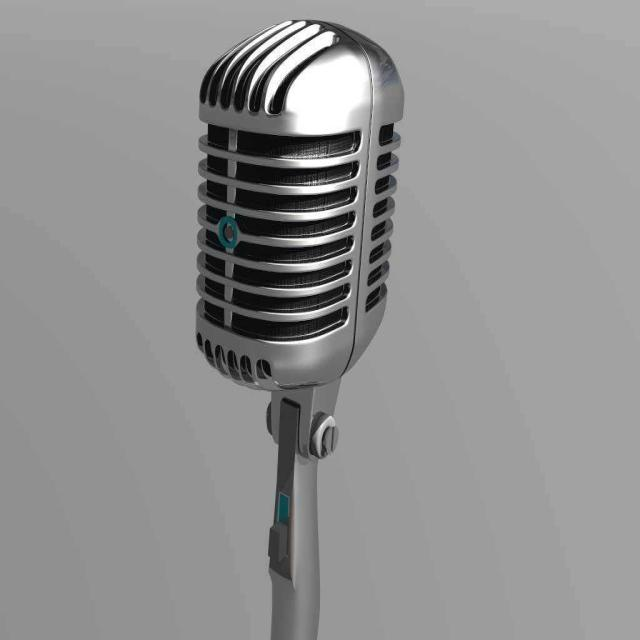microphone: (189, 19, 402, 636)
